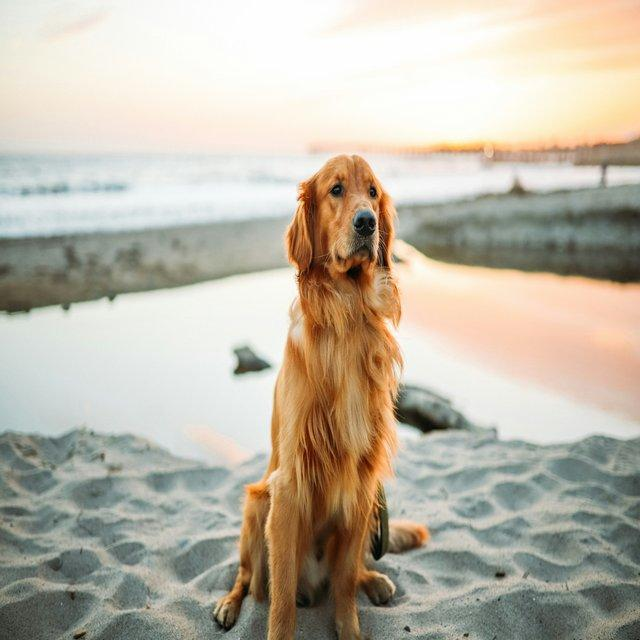retriever: (211, 152, 429, 638)
